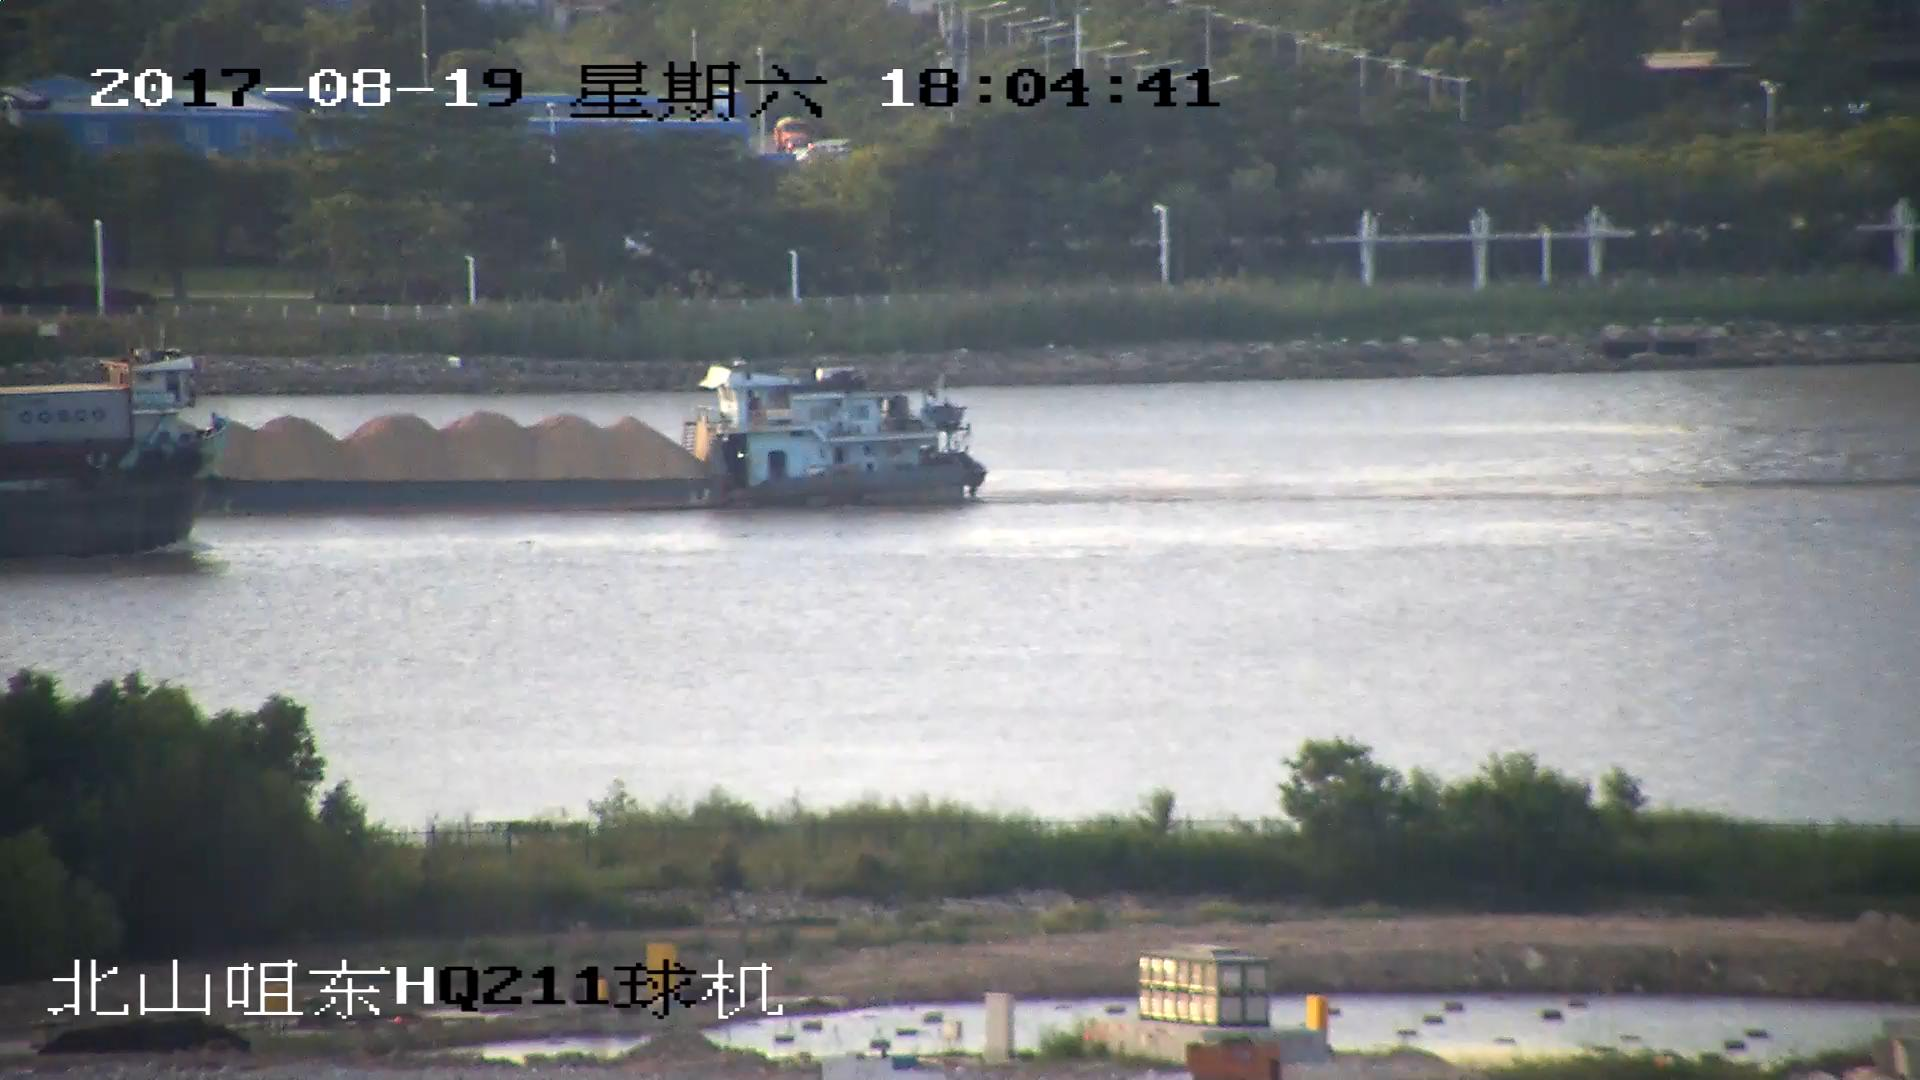container ship: (1, 361, 214, 556)
ore carrier: (197, 365, 995, 512)
